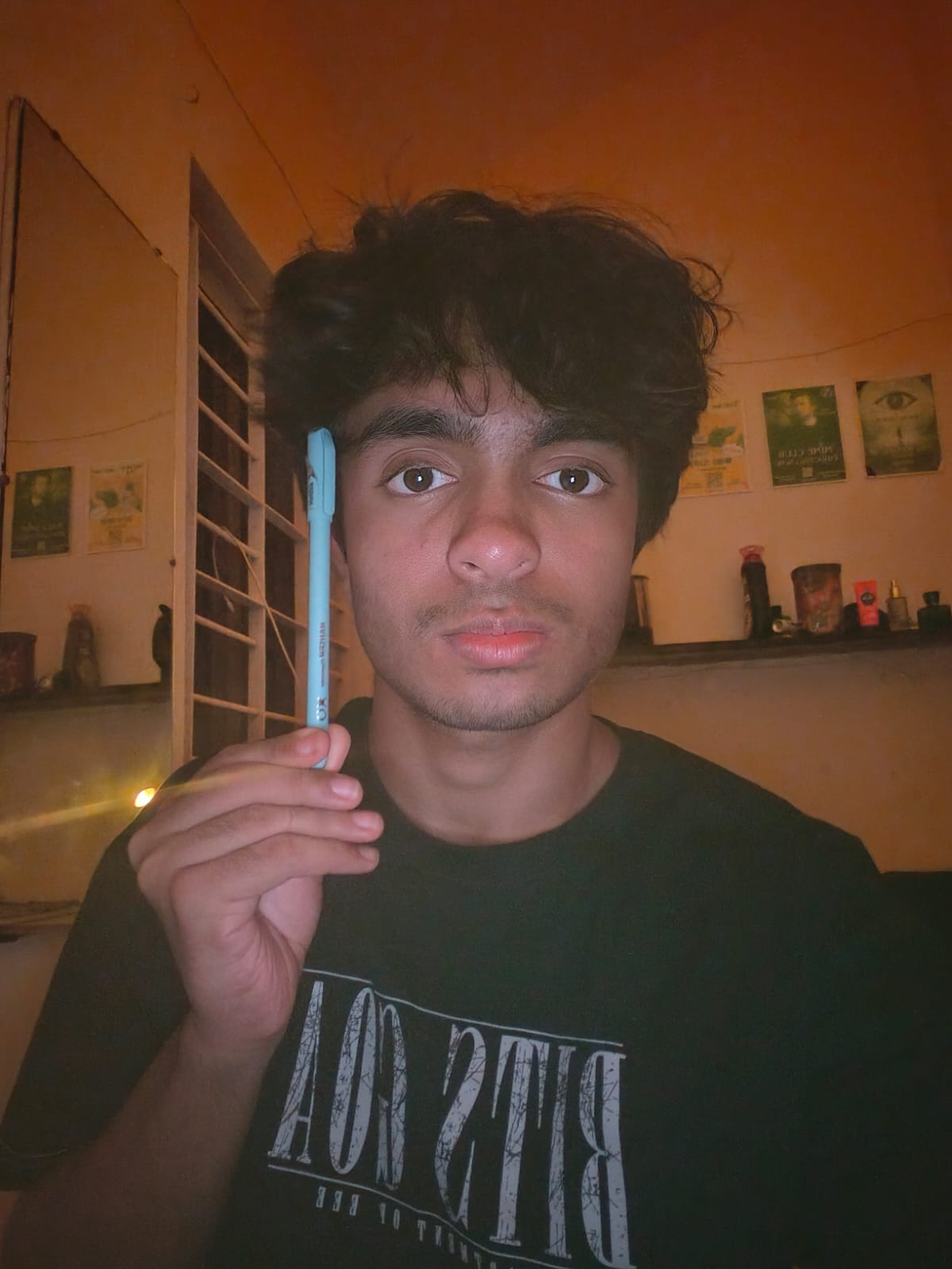pen: (283, 418, 375, 753)
